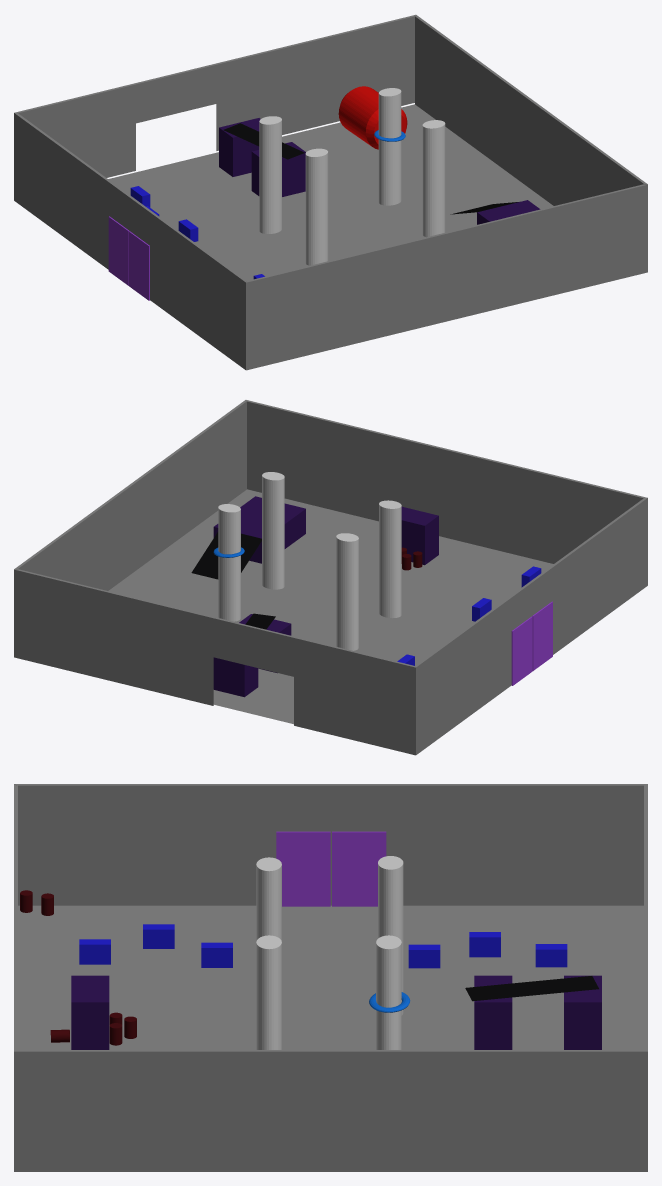
File: raum01.obj
The picture shows the model from 3 angles, top to bottom: view 1: azimuth 30°, elevation 25°; view 2: azimuth 150°, elevation 25°; view 3: azimuth 270°, elevation 25°; orthographic projection. The views are drawn at different scales.
Visible parts, largest first — view 1: raum, Cylinder.001, Cylinder.002, Cylinder.003, Cylinder, Cylinder.010, Cube.001, Cube.002, door1, door2, Cube.003, Plane; view 2: raum, Cylinder.001, Cylinder.002, Cylinder, Cylinder.003, Cube.003, Cube, Cube.001, door2, door1, Plane.001; view 3: raum, door1, door2, Cylinder.002, Cube, Cylinder.003, Cube.001, Cube.002, Cylinder, Cylinder.001, Plane, Barikade (+5 smaller).
Part boxes in pixels (x1,y1,x2,y2): raum: (14,14,647,370); Cylinder.001: (305,148,328,265); Cylinder.002: (422,120,445,237); Cylinder.003: (378,88,401,205); Cylinder: (259,116,281,233); Cylinder.010: (338,86,407,149); Cube.001: (219,118,260,176); Cube.002: (251,142,305,196); door1: (129,231,149,300); door2: (108,216,129,285); Cube.003: (477,200,540,224); Plane: (223,123,304,159); raum: (14,400,647,755); Cylinder.001: (379,500,401,618); Cylinder.002: (262,472,284,589); Cylinder: (336,533,358,650); Cylinder.003: (218,504,240,621); Cube.003: (213,496,305,563); Cube: (401,506,438,565); Cube.001: (213,657,258,697); door2: (511,616,532,685); door1: (532,601,552,670); Plane.001: (191,531,261,579); raum: (14,784,647,1171); door1: (276,831,330,906); door2: (332,831,386,906); Cylinder.002: (256,935,281,1049); Cube: (71,975,109,1049); Cylinder.003: (376,935,401,1049); Cube.001: (564,975,601,1049); Cube.002: (474,975,512,1049); Cylinder: (378,856,403,1015); Cylinder.001: (256,857,281,941); Plane: (465,976,598,1001); Barikade: (79,939,110,964).
Size of the model in its own units: 78.82 by 20.95 by 78.6.
